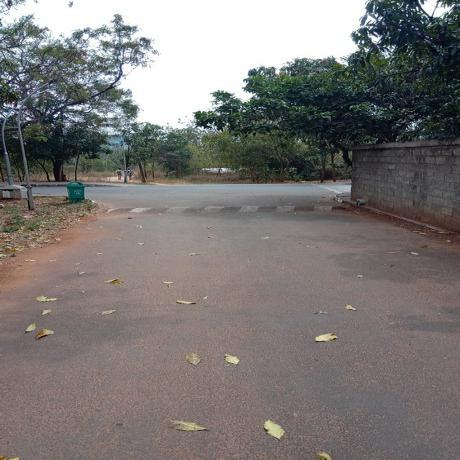Speed Bump: (86, 203, 354, 211)
